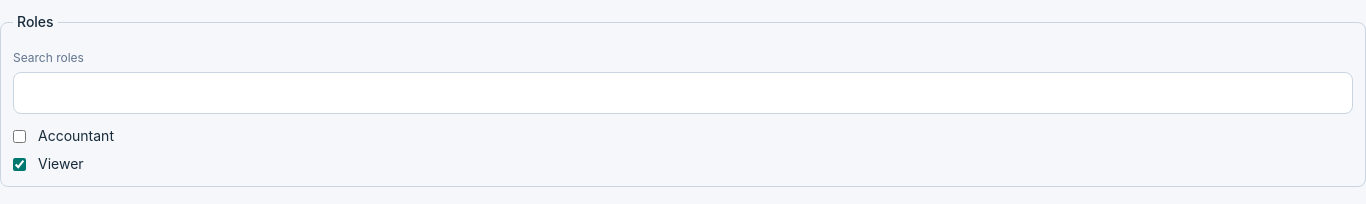
Scenario: searchable role selection preserves selected identities
Later steps or results of the test are not shown.
Type "Account" into the field labelled "Search roles" at {"x": 683, "y": 93}, box x1=13 y1=72 x2=1353 y2=114
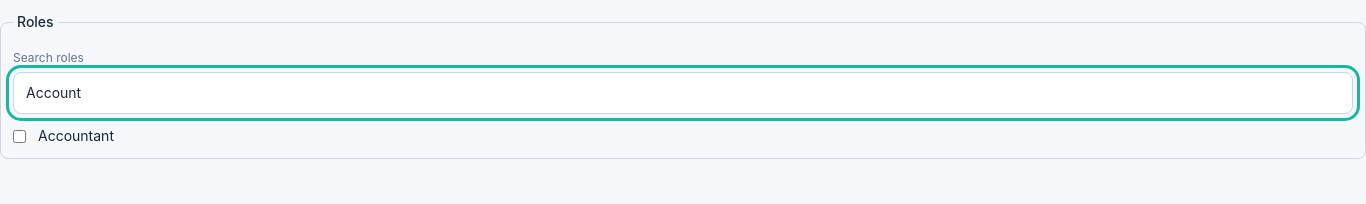
expect the text labelled "Viewer" is gone: met
